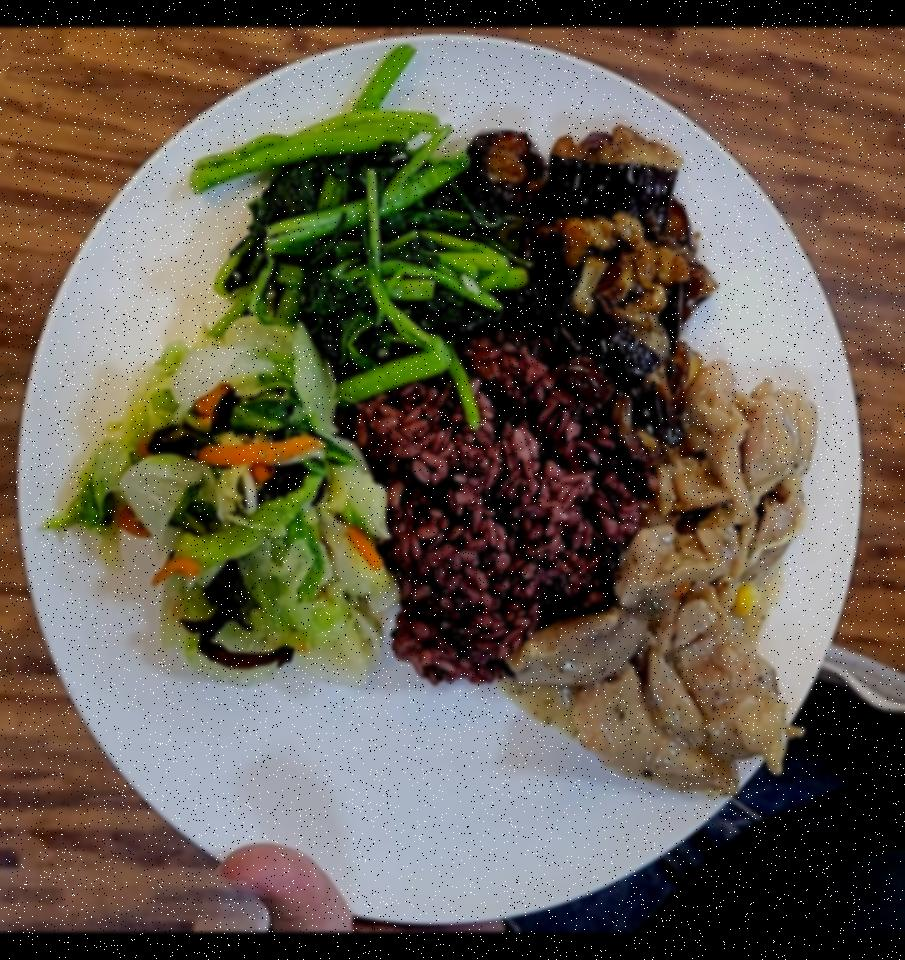plate: (20, 27, 878, 933)
purple rice: (359, 329, 638, 690)
side dish: (48, 316, 402, 685), (195, 47, 514, 392), (474, 124, 721, 426)
white sauce chicken: (508, 374, 834, 793)
